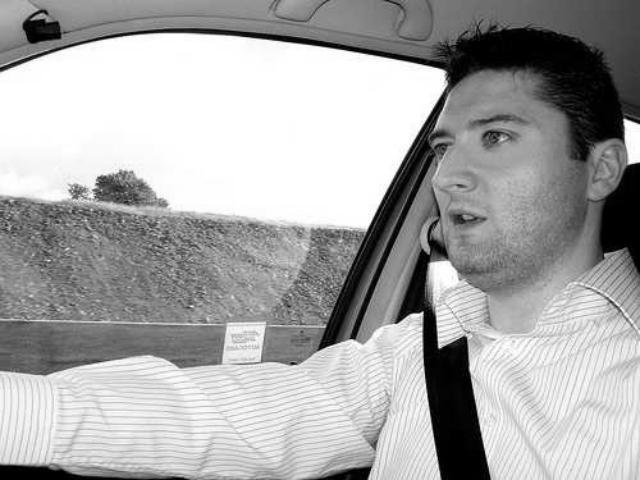SafeDriving: (473, 118, 523, 150)
Seatbelt: (417, 214, 495, 480)
